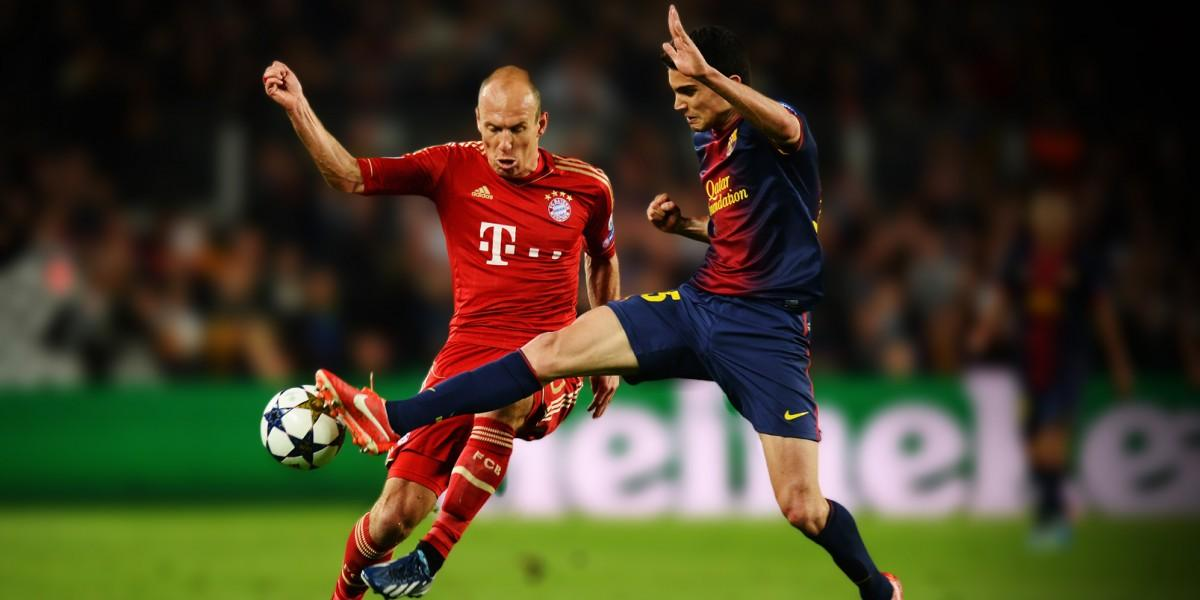ballon_football: (260, 383, 348, 473)
